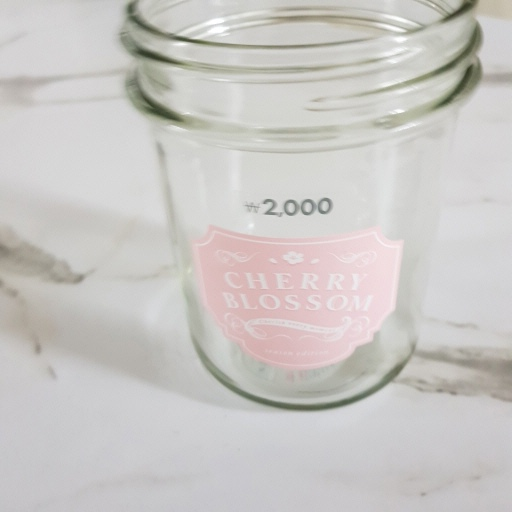Glass_5: (120, 2, 481, 407)
